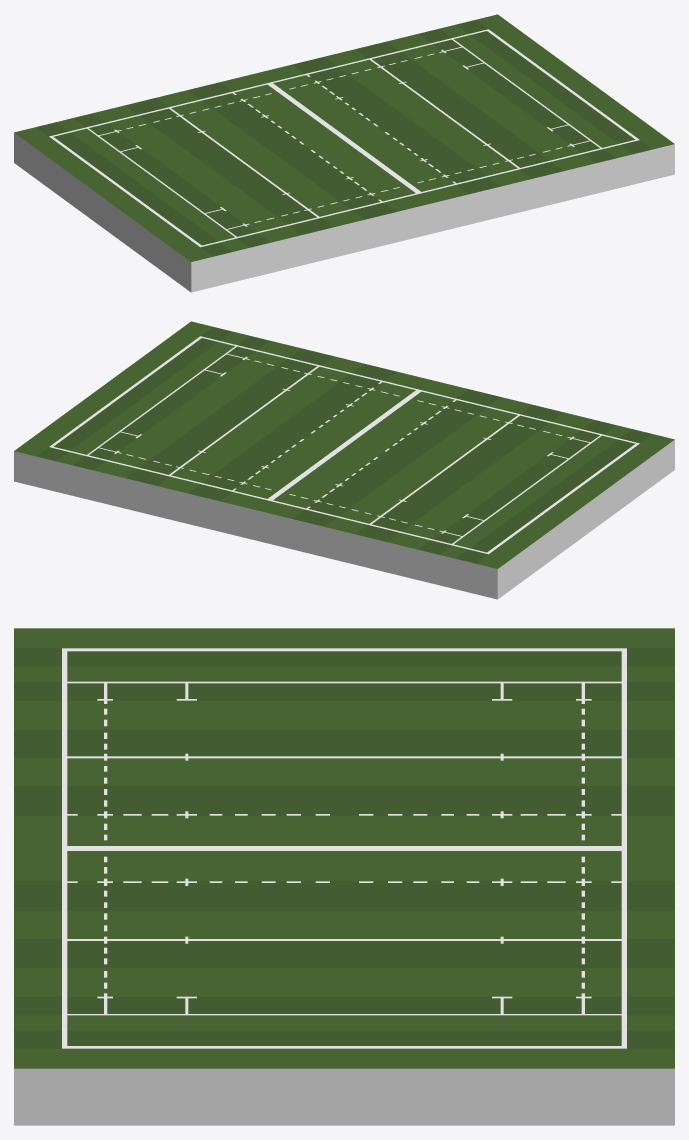
Rendered from rugby.fbx.
The picture shows the model from 3 angles, top to bottom: view 1: azimuth 30°, elevation 25°; view 2: azimuth 150°, elevation 25°; view 3: azimuth 270°, elevation 25°; orthographic projection. The views are drawn at different scales.
Visible parts, largest first — view 1: Cube; view 2: Cube; view 3: Cube.
Part boxes in pixels (x1=…): Cube: x1=14, y1=14, x2=674, y2=292; Cube: x1=14, y1=321, x2=674, y2=599; Cube: x1=14, y1=628, x2=674, y2=1125.
Size of the model in its own units: 19490 by 1173 by 12362.
